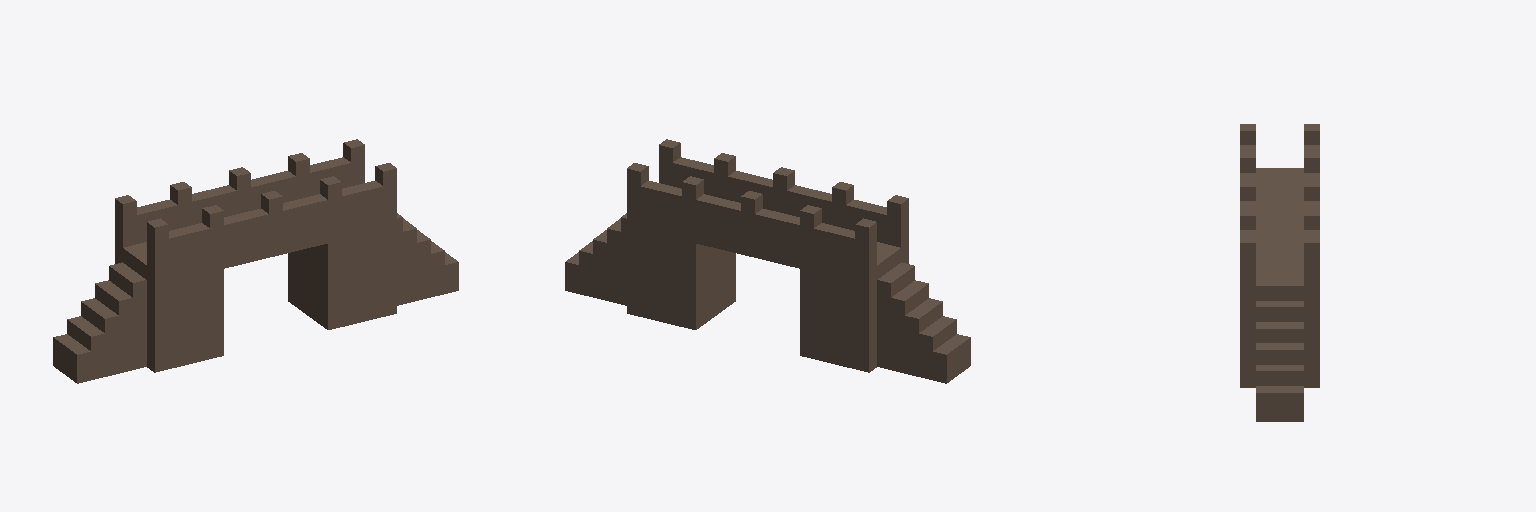
File: rampartgate.obj
3 renders of one model, left to right at view 1: azimuth 30°, elevation 25°; view 2: azimuth 150°, elevation 25°; view 3: azimuth 270°, elevation 25°, orthographic.
Visible parts, largest first — view 1: Cube.002_Cube.003, Cube.003_Cube.013, Cube.001_Cube.017, Cube.009_Cube.010, Cube_Cube.001; view 2: Cube.002_Cube.003, Cube.001_Cube.017, Cube.003_Cube.013, Cube.009_Cube.010, Cube_Cube.001; view 3: Cube.002_Cube.003, Cube_Cube.001, Cube.003_Cube.013, Cube.001_Cube.017.
Part boxes in pixels (bbox=[...]): Cube.002_Cube.003: bbox=[115, 212, 396, 372]; Cube.003_Cube.013: bbox=[147, 163, 396, 270]; Cube.001_Cube.017: bbox=[115, 139, 364, 247]; Cube.009_Cube.010: bbox=[53, 262, 146, 383]; Cube_Cube.001: bbox=[397, 213, 458, 305]; Cube.002_Cube.003: bbox=[627, 212, 908, 372]; Cube.001_Cube.017: bbox=[627, 163, 876, 270]; Cube.003_Cube.013: bbox=[659, 139, 908, 247]; Cube.009_Cube.010: bbox=[877, 262, 970, 383]; Cube_Cube.001: bbox=[565, 213, 626, 305]; Cube.002_Cube.003: bbox=[1240, 168, 1319, 387]; Cube_Cube.001: bbox=[1256, 301, 1303, 421]; Cube.003_Cube.013: bbox=[1240, 124, 1255, 285]; Cube.001_Cube.017: bbox=[1304, 124, 1319, 285].
Bounding box in the file's own units: 5.5 × 2 × 1.